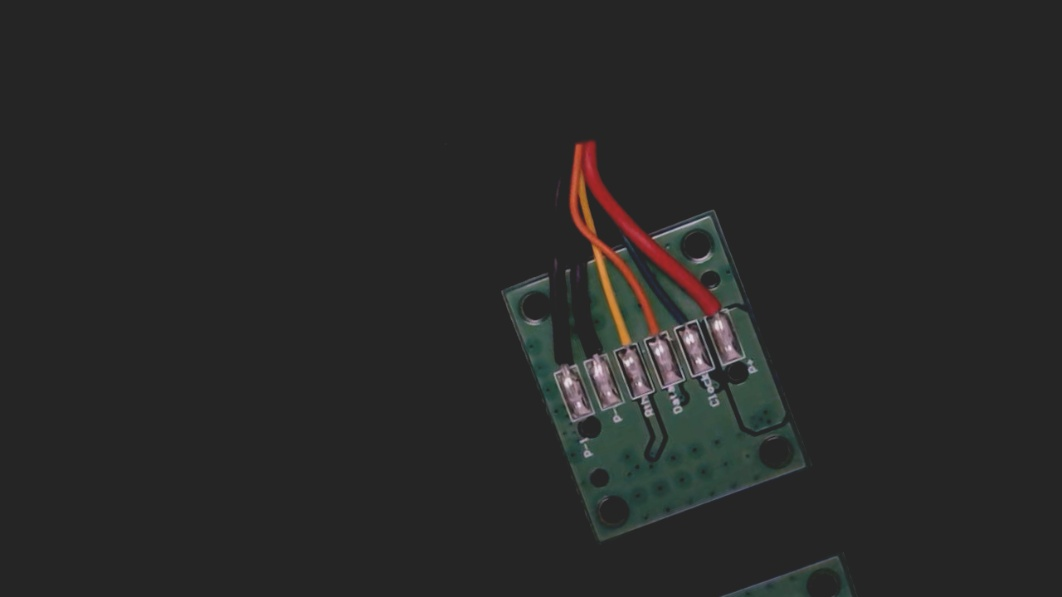Black: (567, 313, 614, 373)
Black1: (536, 324, 581, 386)
Green: (662, 288, 701, 342)
Orange: (631, 295, 672, 351)
Red: (691, 275, 732, 329)
Yellow: (599, 302, 642, 363)
